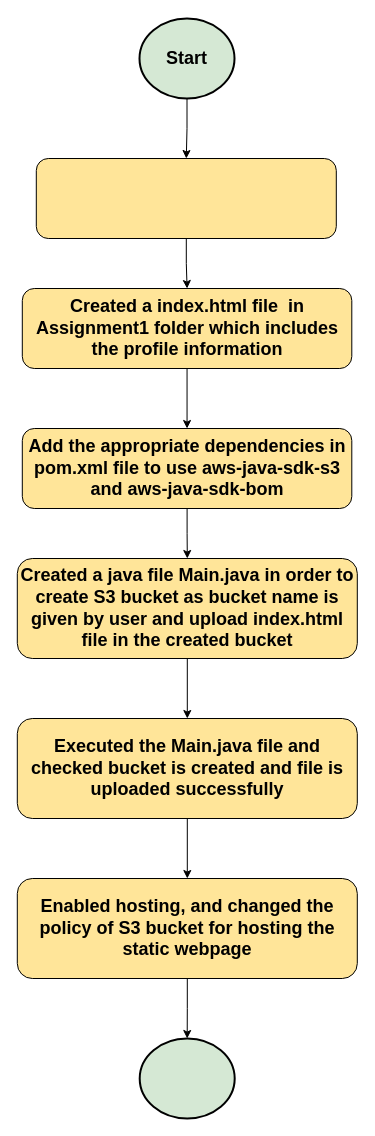
Some shapes in this 375 by 1136 pixel diagram are drawn without their labels. Here are the shapes that lost their labels. From the top down, the box of each, then its label:
(35, 158, 336, 238): Crated a Maven project and named it Assignment1 in Intellij
(138, 1037, 235, 1119): End
